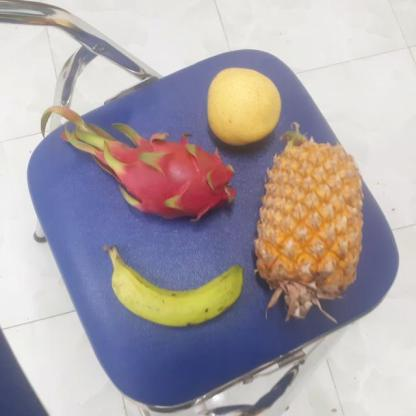annona: (254, 132, 362, 309)
banana: (102, 245, 242, 326)
pear: (204, 69, 284, 146)
pitaya: (106, 134, 233, 224)
